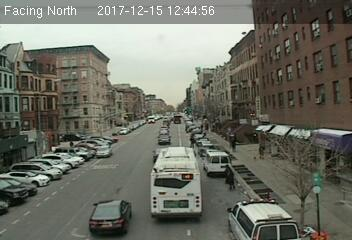bus: (147, 147, 205, 220)
car: (90, 198, 133, 236), (94, 145, 112, 158), (157, 134, 172, 144)
pedestrian: (224, 165, 238, 191), (255, 141, 267, 163)
police: (225, 199, 304, 240)
truck: (205, 152, 232, 176)
